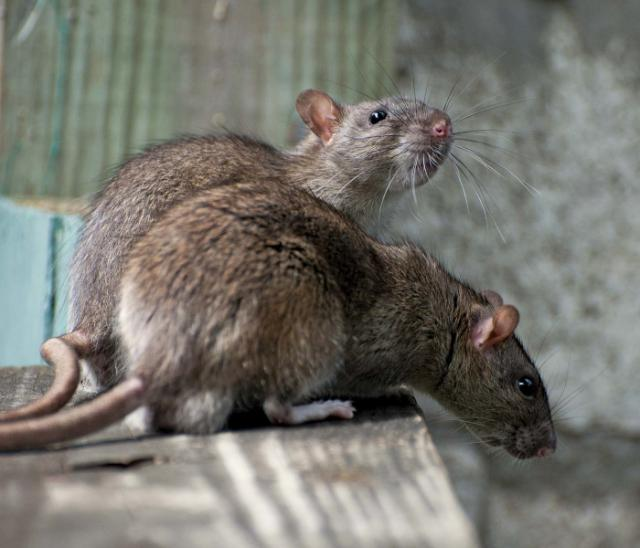rat: (204, 238, 562, 462), (70, 76, 464, 230)
